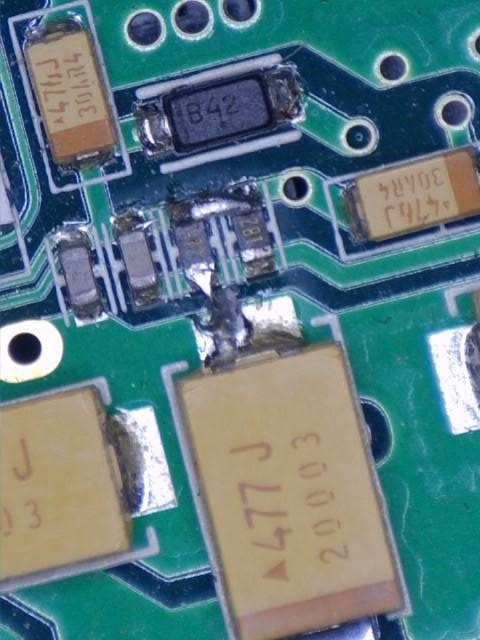pcb_defect: (183, 258, 304, 367), (165, 181, 262, 238)
